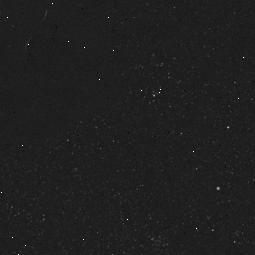cheops: (0, 0, 82, 51)
